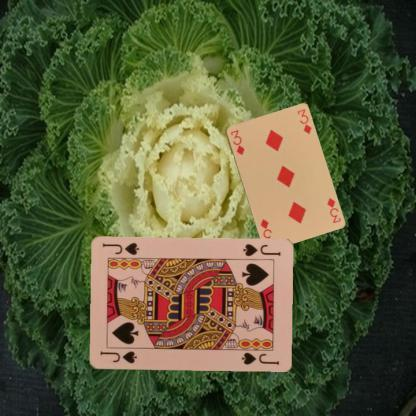3d: (228, 127, 246, 156), (324, 195, 342, 224)
Js: (98, 348, 138, 366), (240, 242, 282, 258)
